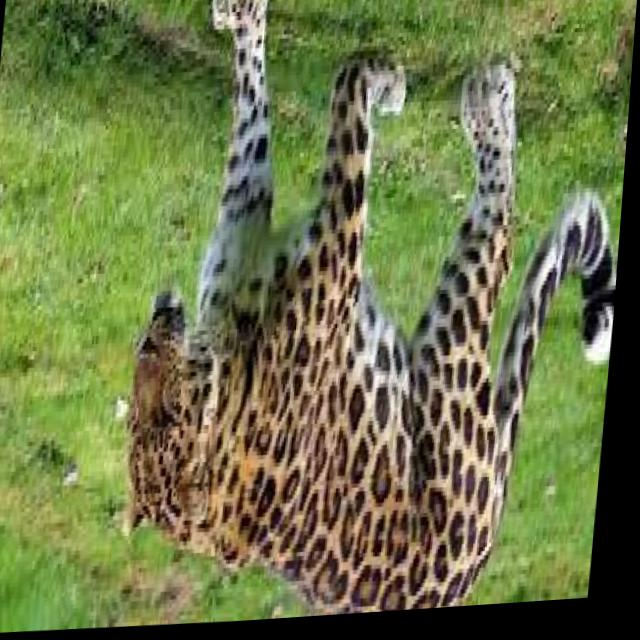dog: (112, 0, 638, 628)
